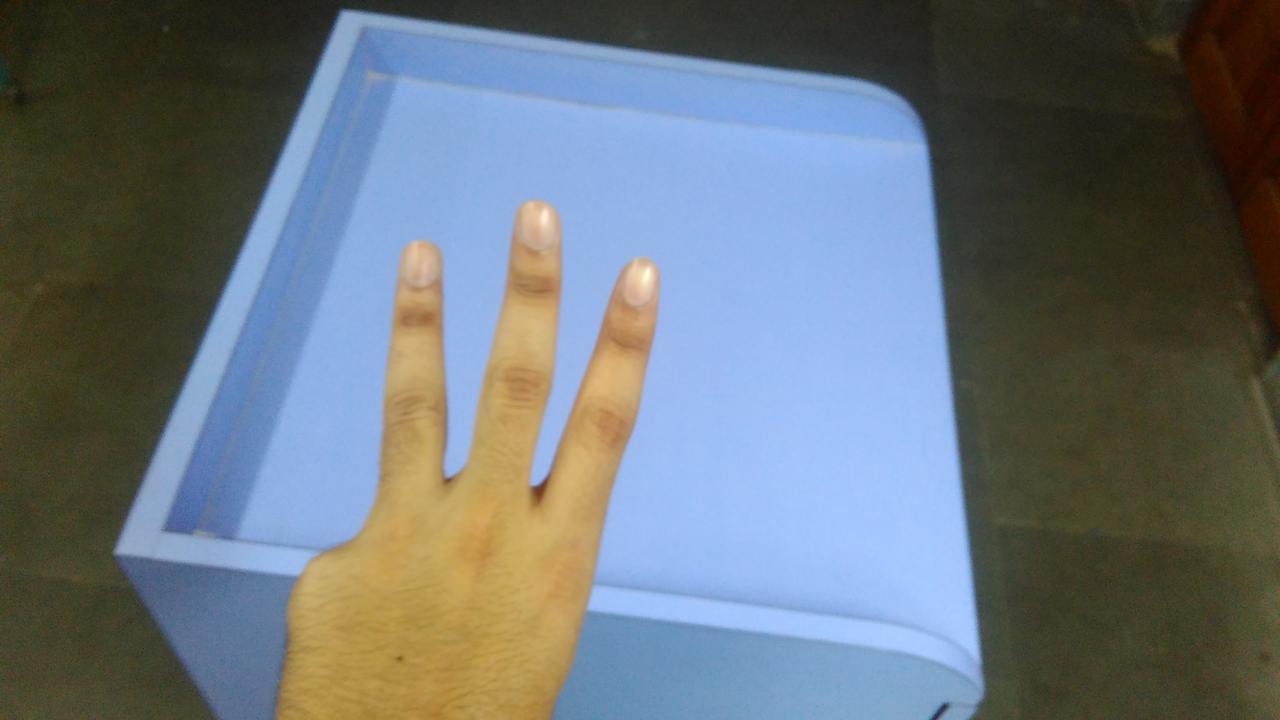fingertip: (500, 192, 568, 256), (602, 248, 670, 312), (382, 234, 452, 296)
